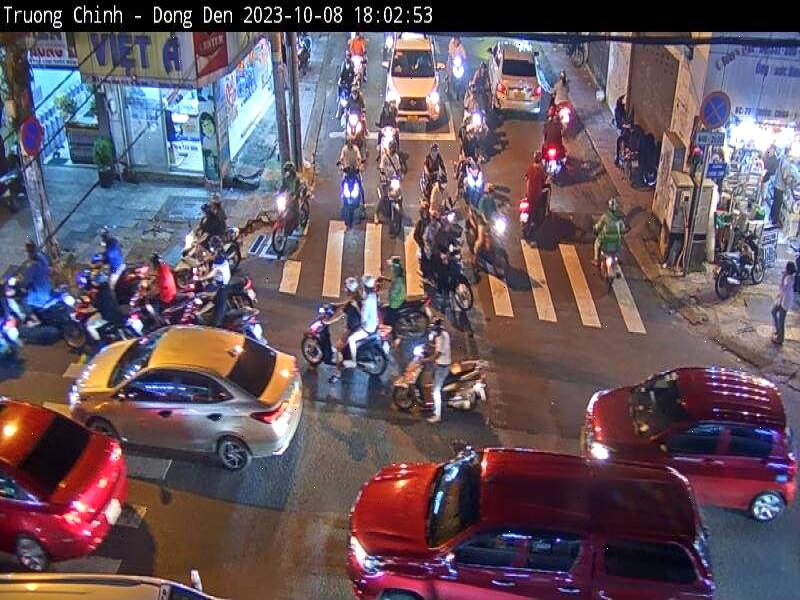car: (346, 447, 718, 600), (580, 368, 800, 522), (68, 325, 304, 468), (0, 396, 131, 570), (397, 350, 487, 415), (384, 34, 440, 127), (489, 40, 544, 116)
